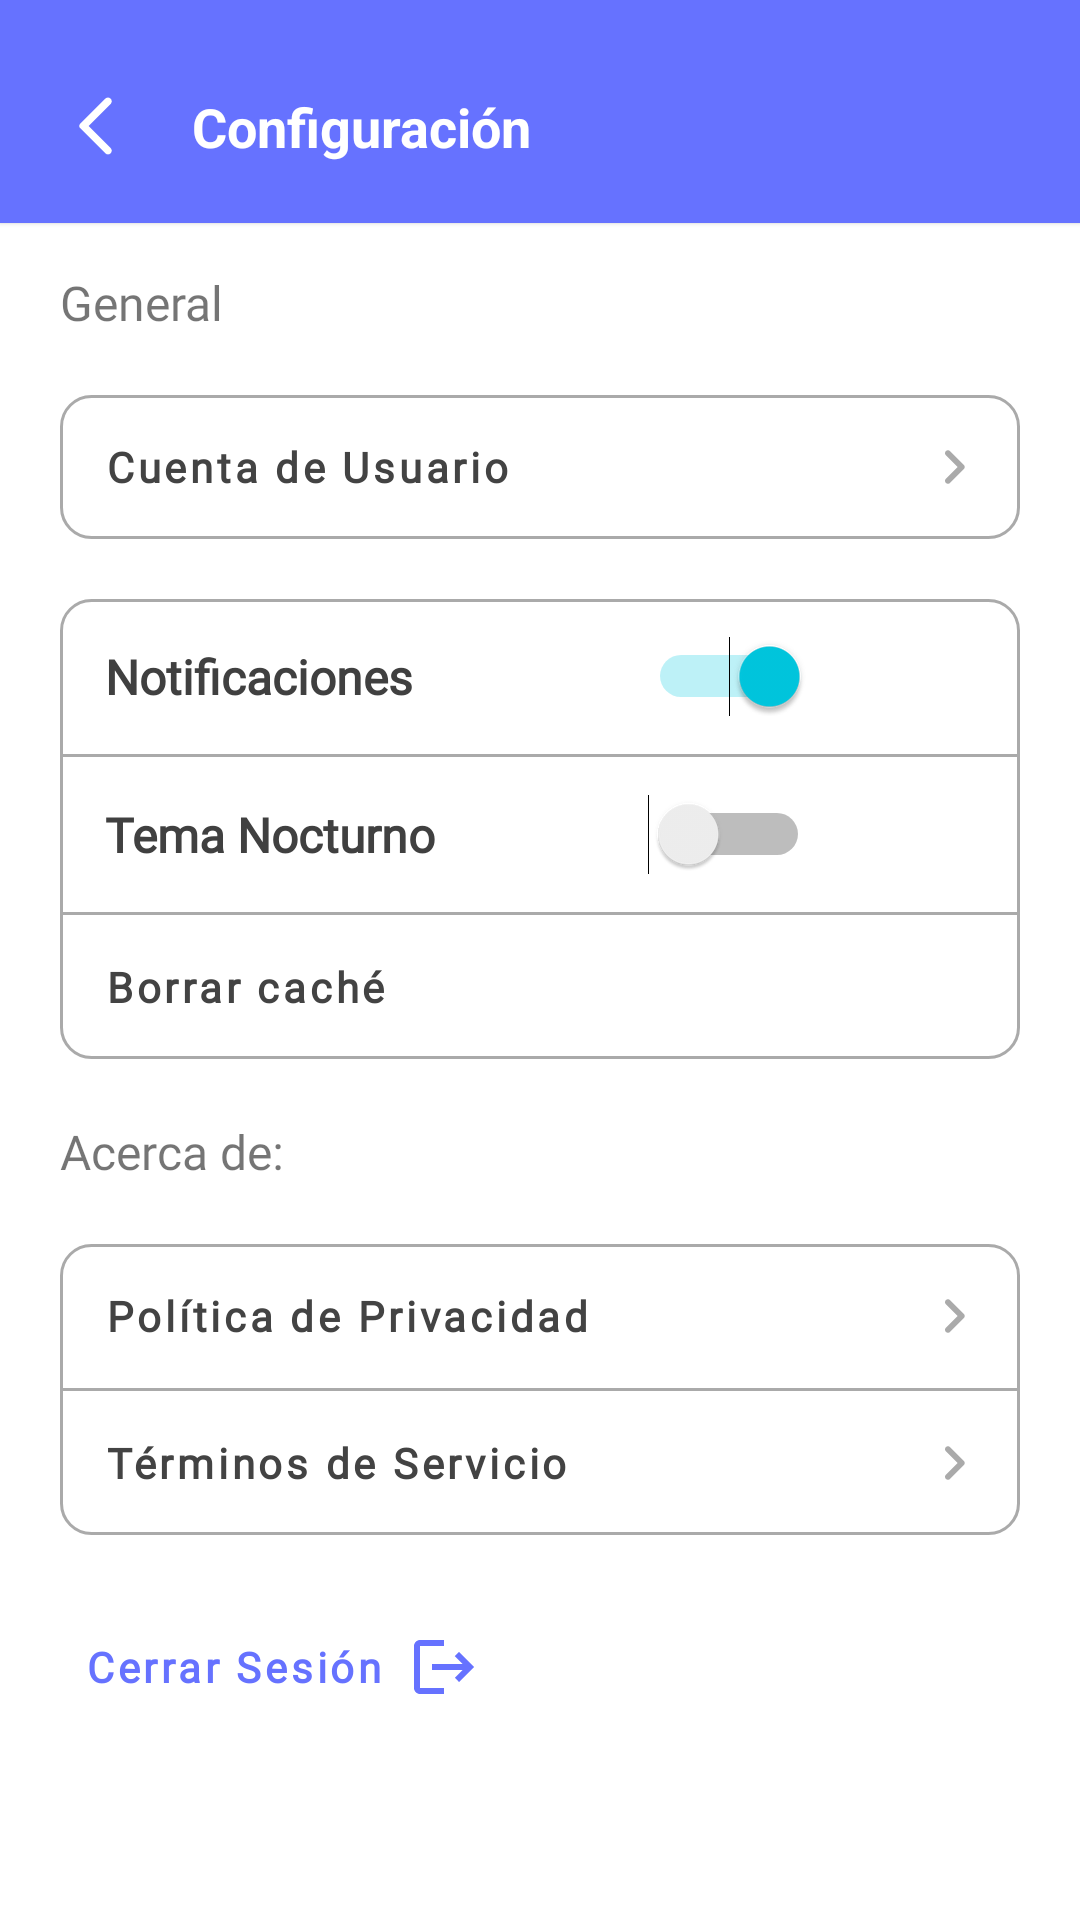

Icons on this 1080x1920 Android screen, each with the point to tap as [x,y]:
arrow back: [95,126]
